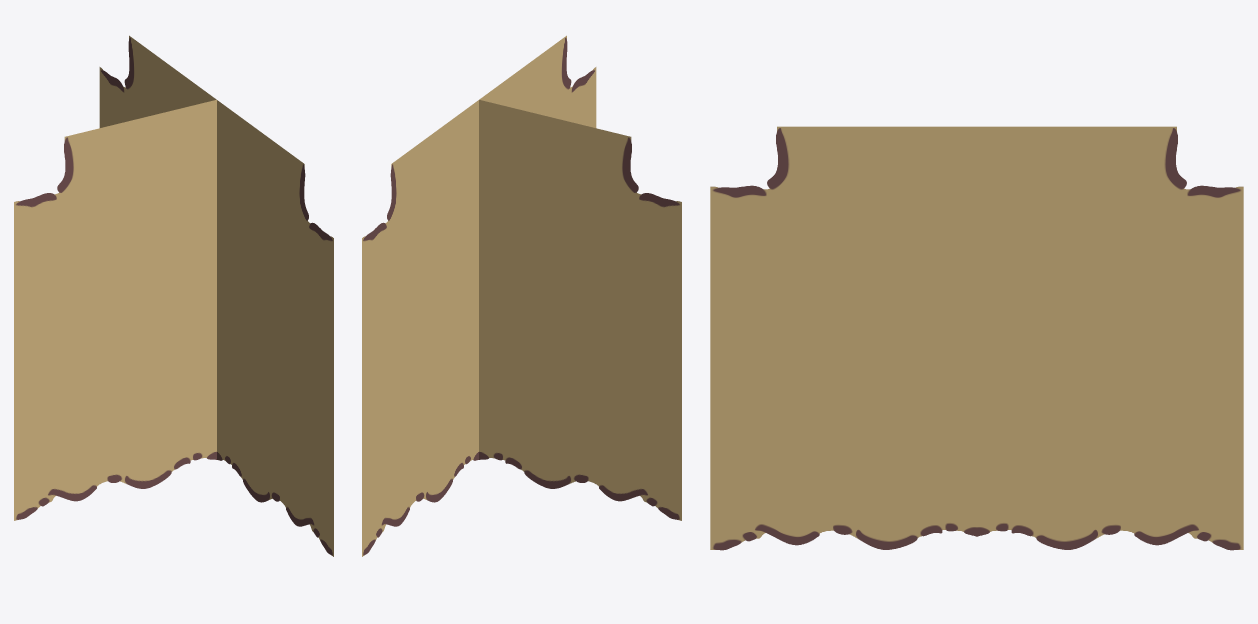
Rendered from Fence_RF_20143_05.fbx.
3 views of the same model, side by side, from view 1: azimuth 30°, elevation 25°; view 2: azimuth 150°, elevation 25°; view 3: azimuth 270°, elevation 25° (orthographic). The views are drawn at different scales.
Parts seen in each view (by area): view 1: Fence_RF_20143_05; view 2: Fence_RF_20143_05; view 3: Fence_RF_20143_05.
Boxes of the visible parts, left/top/right/bottom form: Fence_RF_20143_05: left=14, top=35, right=333, bottom=556; Fence_RF_20143_05: left=362, top=35, right=681, bottom=556; Fence_RF_20143_05: left=710, top=126, right=1243, bottom=550.
Size of the model in its own units: 50 by 100 by 100.
